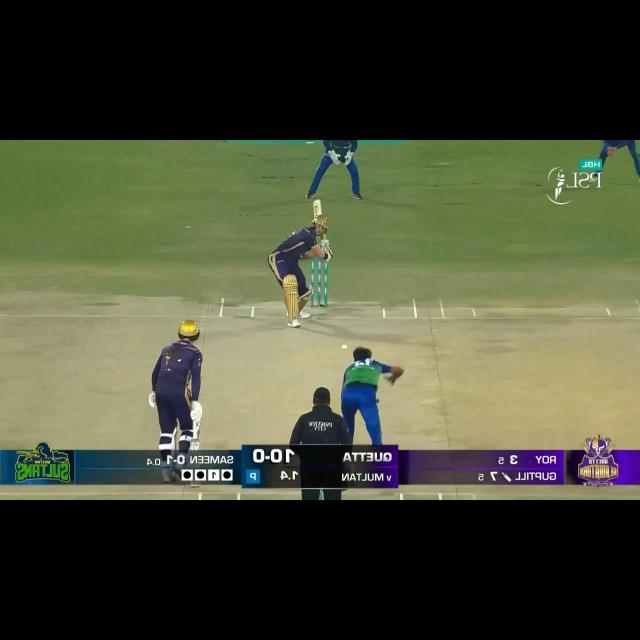bat: (310, 197, 325, 219), (189, 441, 202, 449)
toe: (311, 197, 323, 208), (188, 482, 202, 491)
